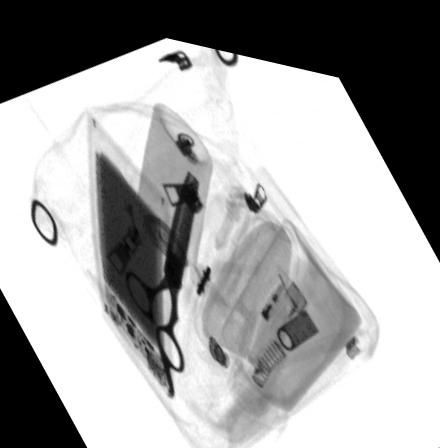Lighter: (252, 249, 307, 337)
Powerbank: (86, 105, 172, 387)
Scissors: (124, 156, 200, 392)
Sprayer: (136, 92, 213, 264)
